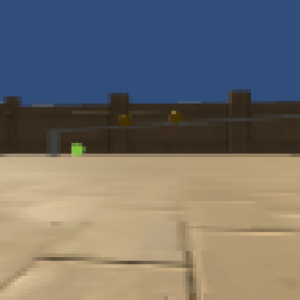goodGoal: (70, 141, 86, 157)
goodGoalMulti: (166, 110, 184, 127), (116, 112, 135, 127)
wall: (48, 129, 63, 156)
